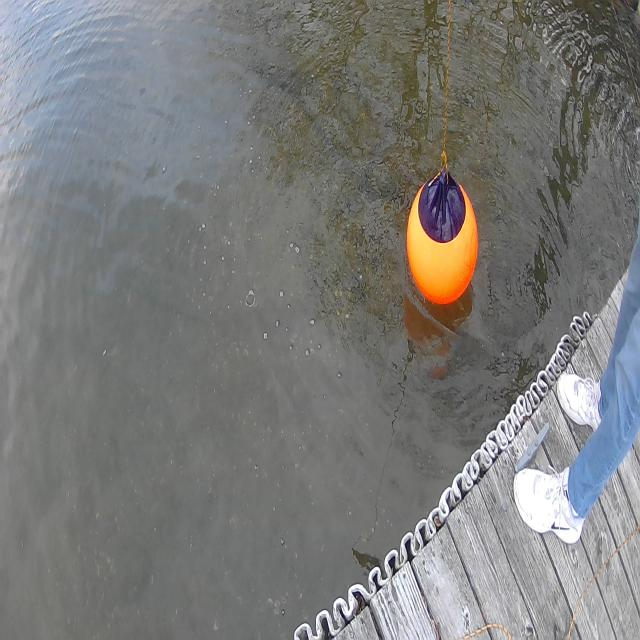Buoy: (403, 157, 487, 330)
